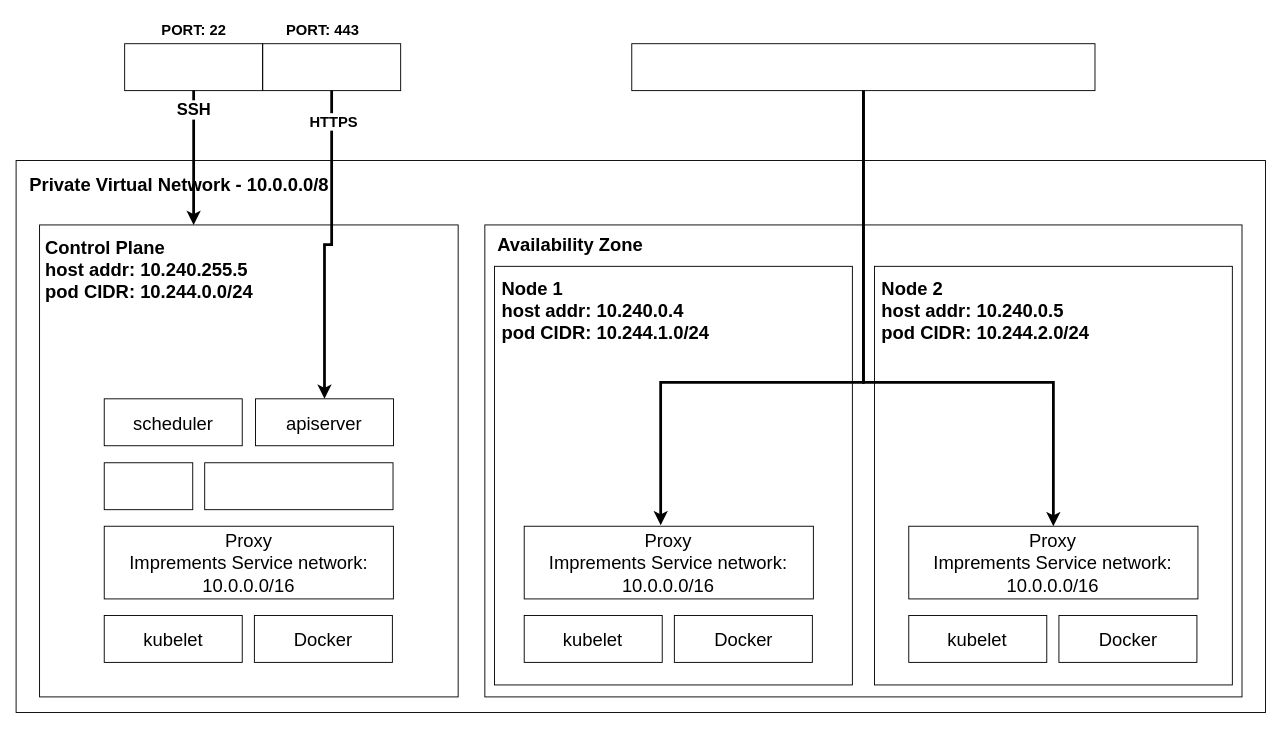
The diagram is 1282 pixels wide and 729 high, and some of its shapes have lost their labels. Here are the shapes that lost their labels. From the top down, the centre of each, then its label:
At pixel 193 67: "NAT-Public IP".
At pixel 331 67: "LoadBalancer".
At pixel 863 67: "LoadBalancer (dynamically added to the service)".
At pixel 148 486: "etcd".
At pixel 298 486: "controller-manager".
